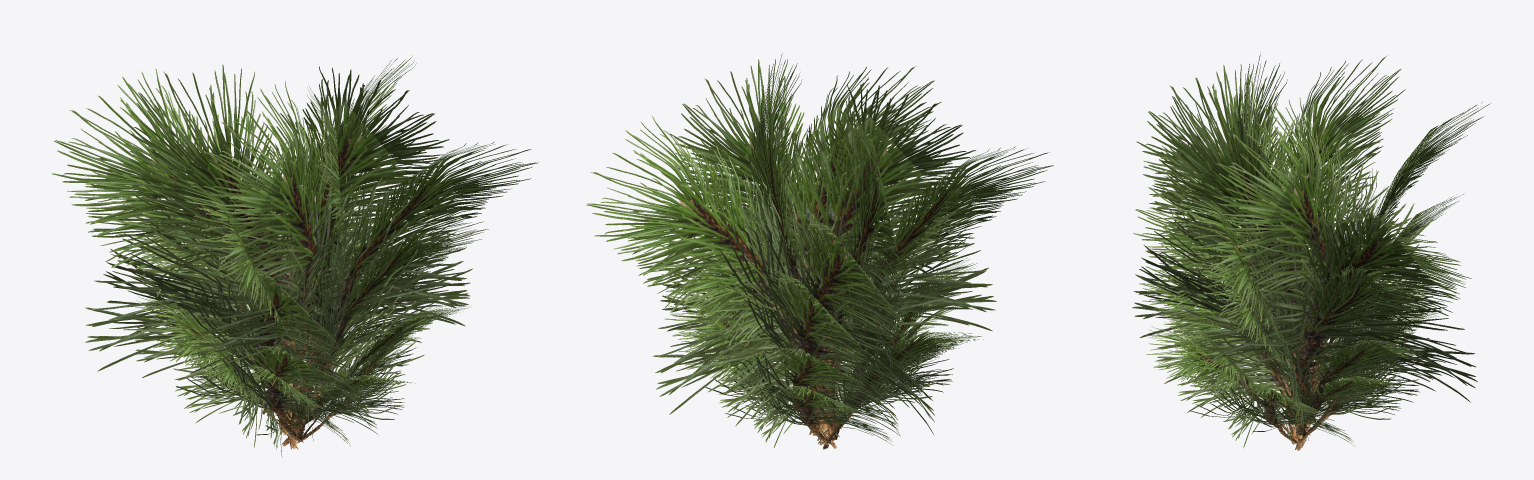
Rendered from Arbusto.fbx.
3 views of the same model, side by side, from view 1: azimuth 30°, elevation 25°; view 2: azimuth 150°, elevation 25°; view 3: azimuth 270°, elevation 25° (orthographic). The views are drawn at different scales.
Parts seen in each view (by area): view 1: Hojas.019; view 2: Hojas.019; view 3: Hojas.019.
Boxes of the visible parts, <box> form: Hojas.019: <box>52,56,538,457</box>; Hojas.019: <box>586,53,1053,449</box>; Hojas.019: <box>1132,52,1490,450</box>.
Bounding box in the file's own units: 917 × 880 × 820.
1 material, 1 textured.
